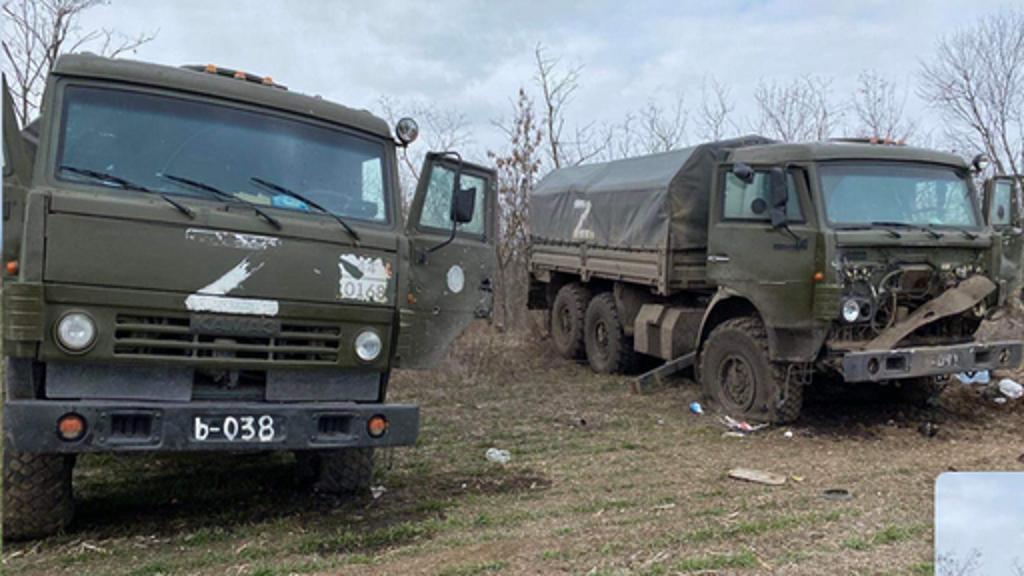TRUCK: (0, 42, 500, 546), (530, 128, 1020, 426)
